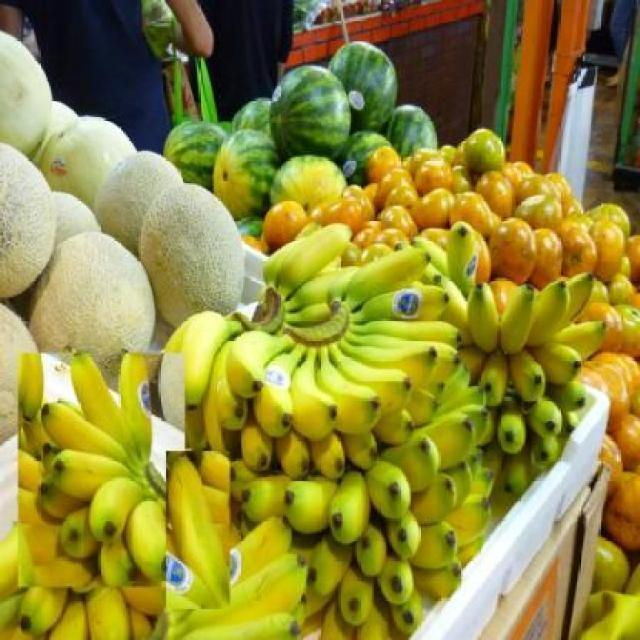Banana: (167, 224, 464, 467), (18, 353, 186, 587)
